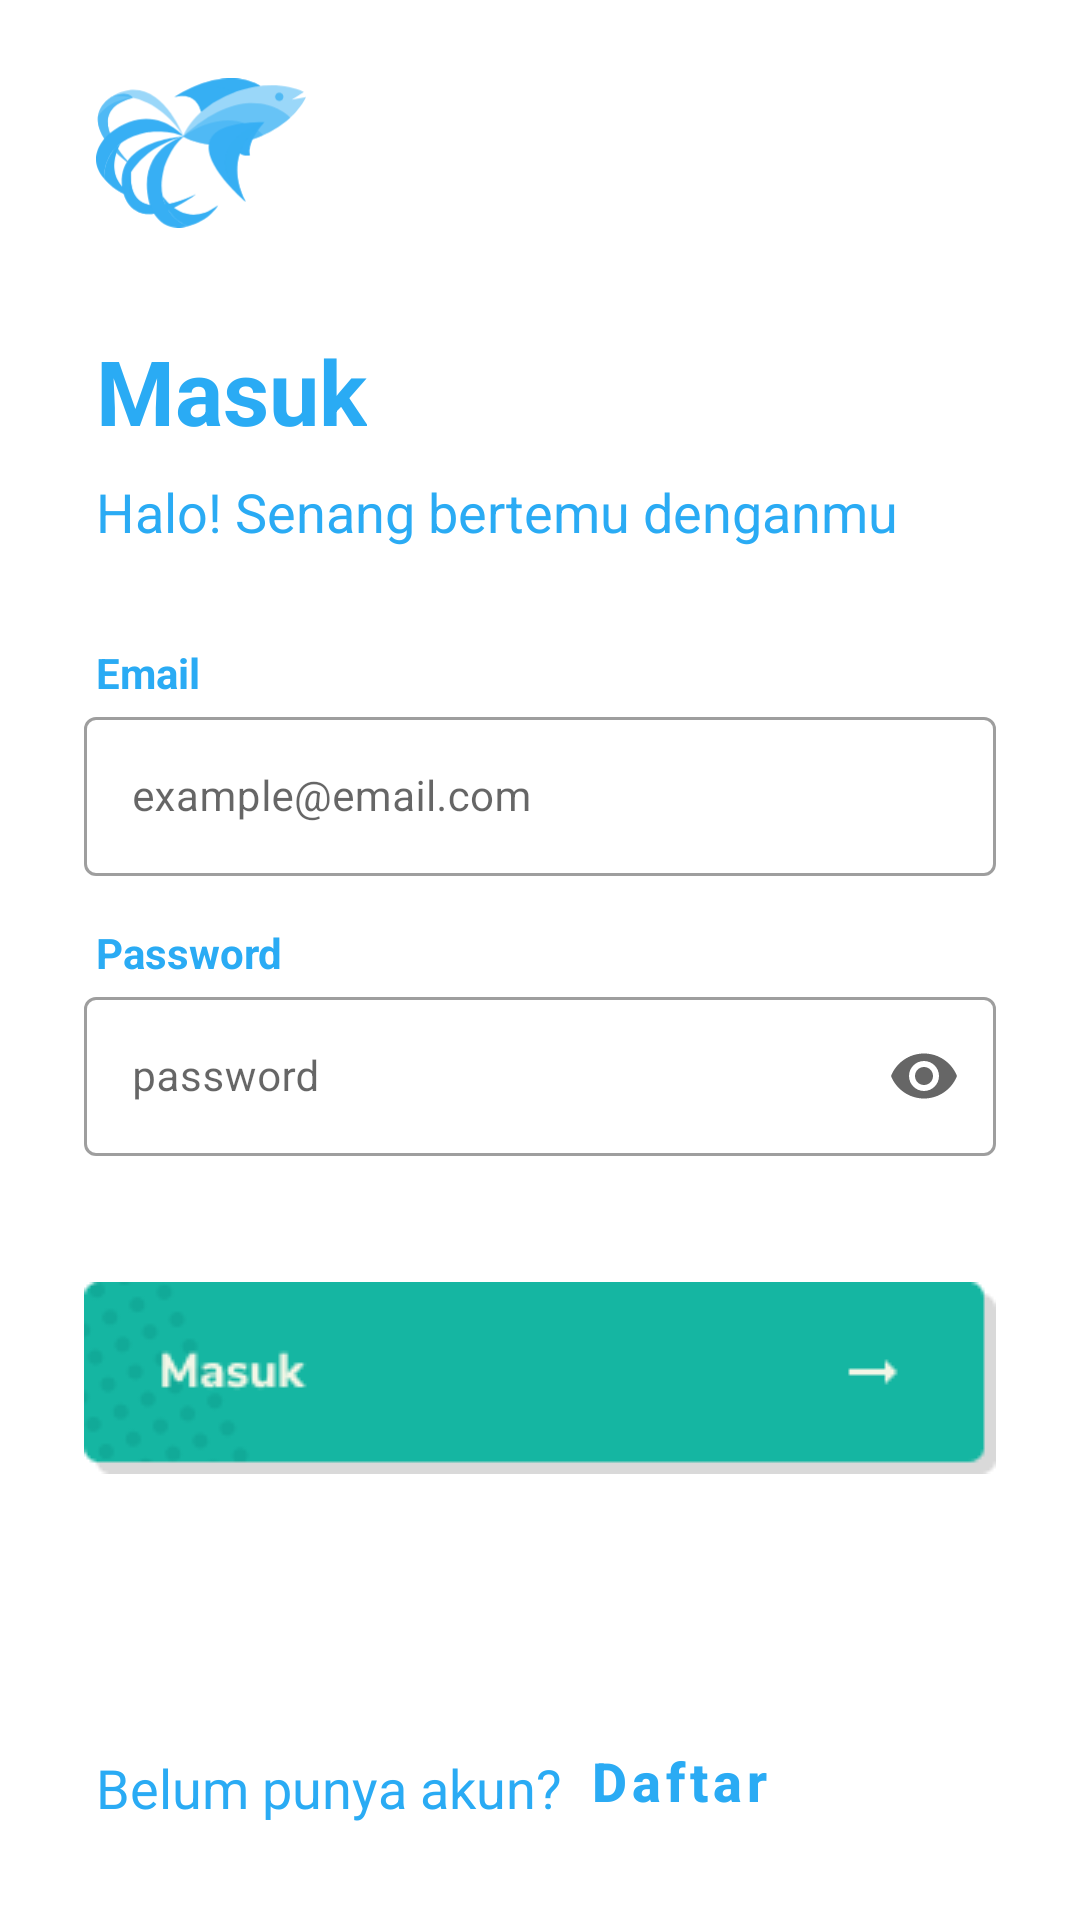

Locate icon controls on the screen. Image size 1080 x 1920, boxes as detection(x1, y1, x2, y2).
fish: detection(96, 78, 306, 228)
